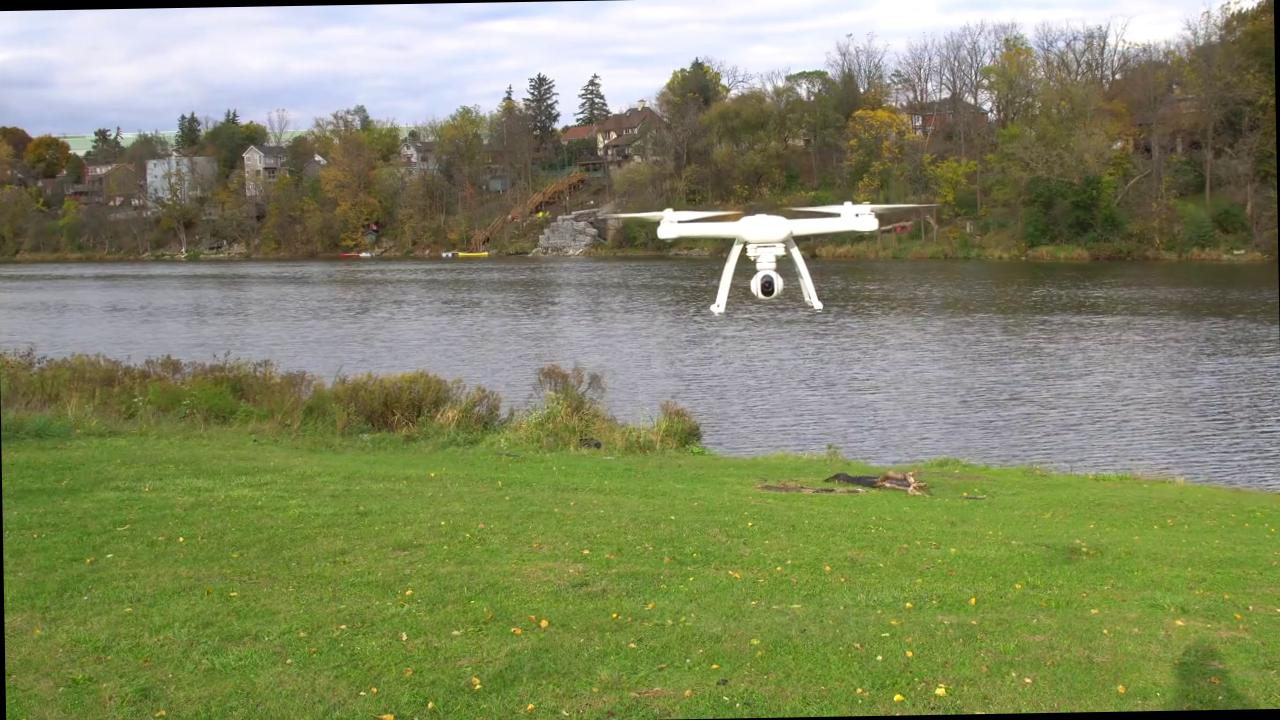drone: (618, 186, 914, 282)
